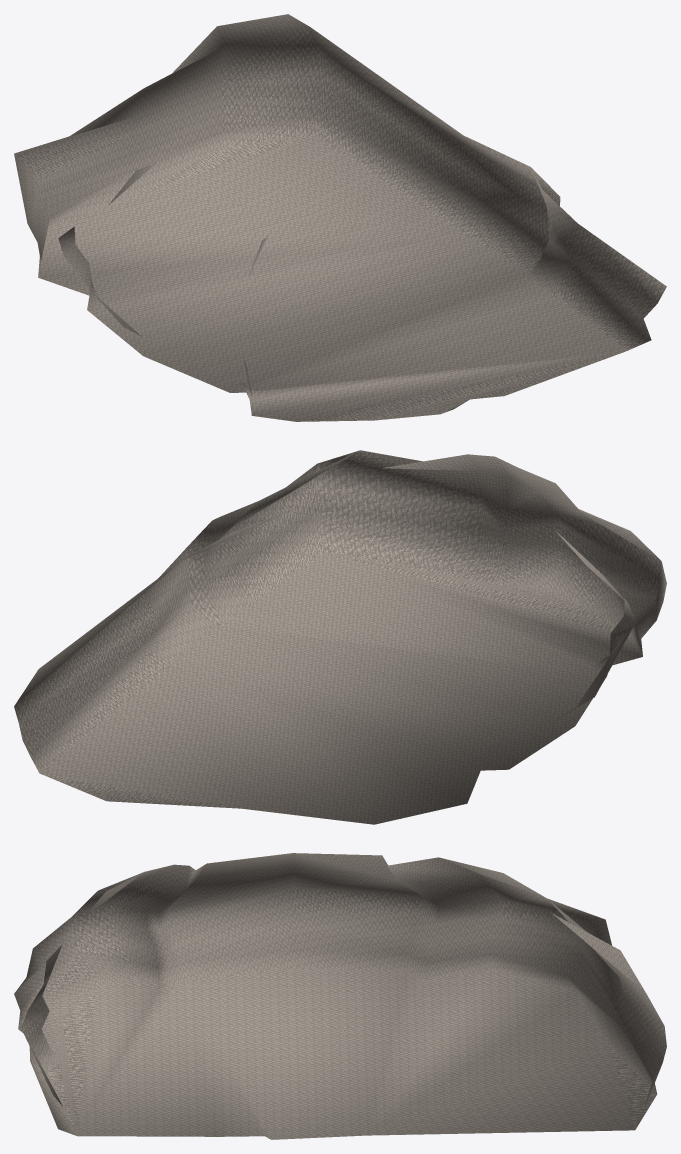
Rendered from BackGround.gltf.
3 renders of one model, top to bottom at view 1: azimuth 30°, elevation 25°; view 2: azimuth 150°, elevation 25°; view 3: azimuth 270°, elevation 25°, orthographic. The views are drawn at different scales.
Visible parts, largest first — view 1: BackGround; view 2: BackGround; view 3: BackGround.
Part boxes in pixels (box(x1,y1,x2,y2)): BackGround: box(14, 14, 666, 421); BackGround: box(14, 450, 666, 824); BackGround: box(14, 853, 666, 1139).
Bounding box in the file's own units: 30.71 × 9.56 × 42.92.
1 material, 1 textured.
